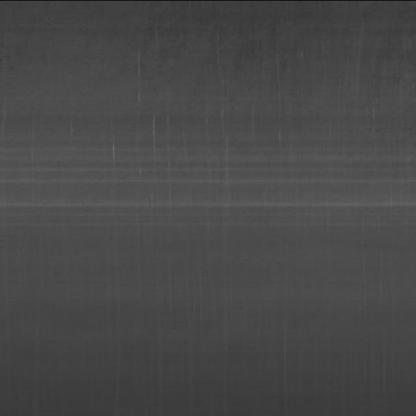waist_folding: (0, 100, 392, 234)
